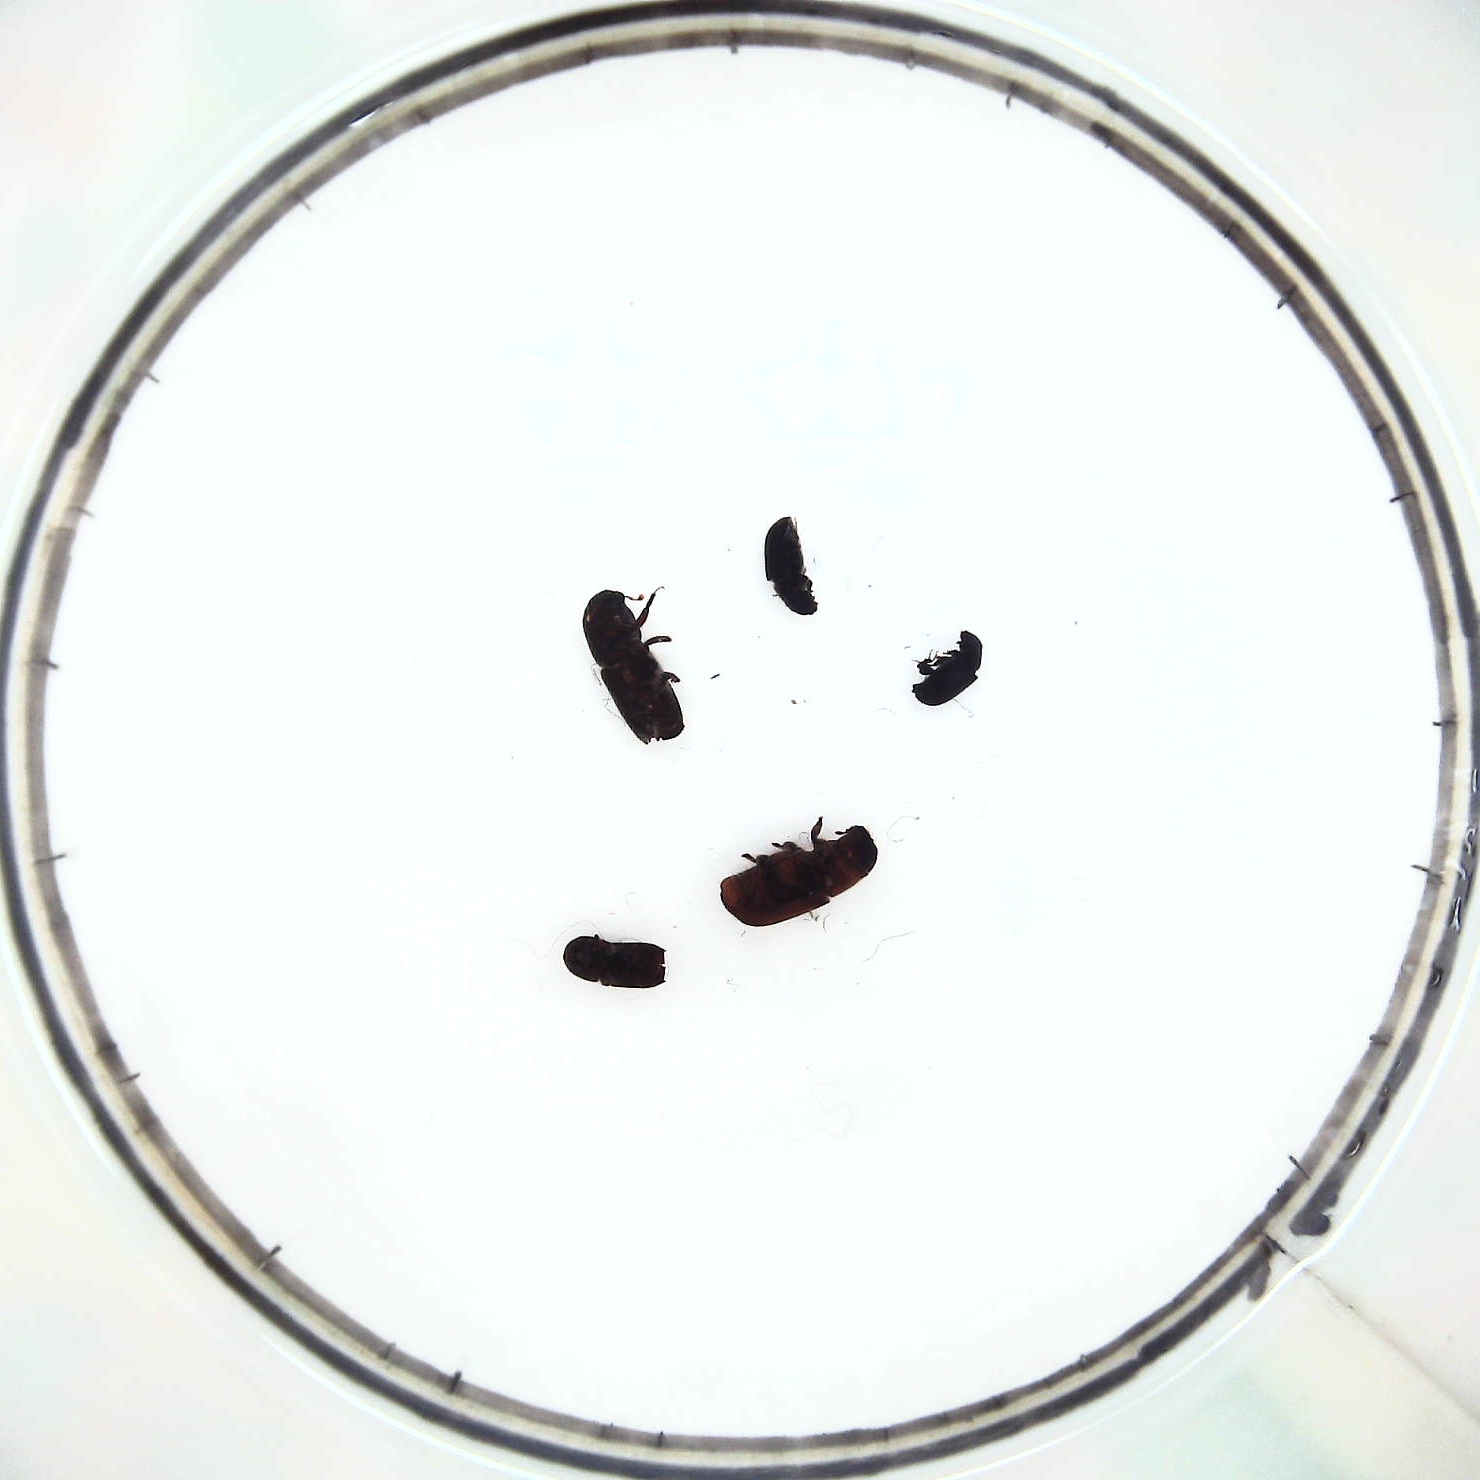Boerner: (581, 590, 690, 745)
Leconte: (720, 825, 878, 924)
Linnaeus: (560, 937, 665, 989)
armandi: (760, 515, 824, 619)
coleoptera: (912, 632, 985, 709)
